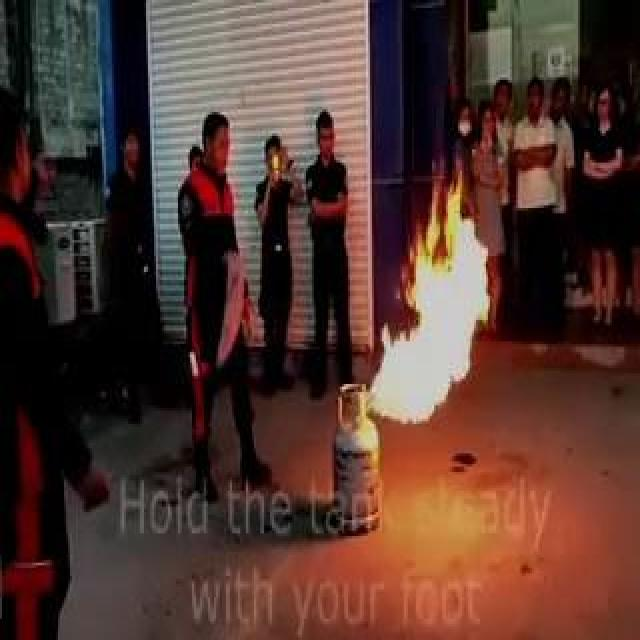Fire: (365, 78, 513, 422)
